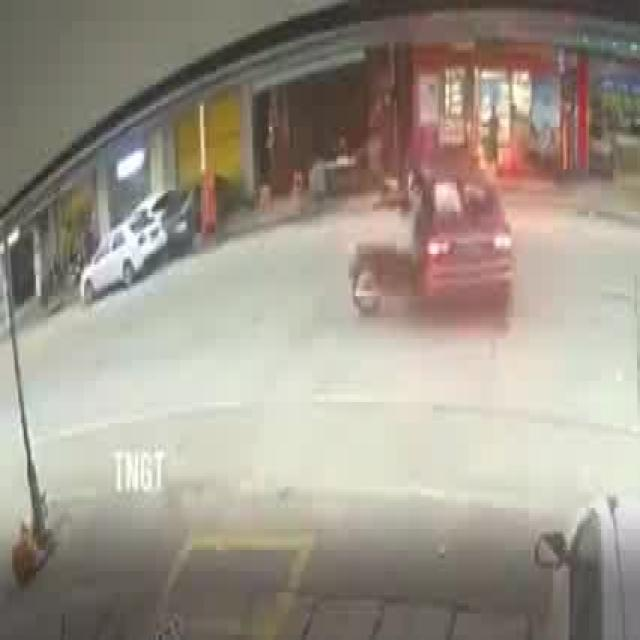multiple_accident: (333, 156, 519, 357)
